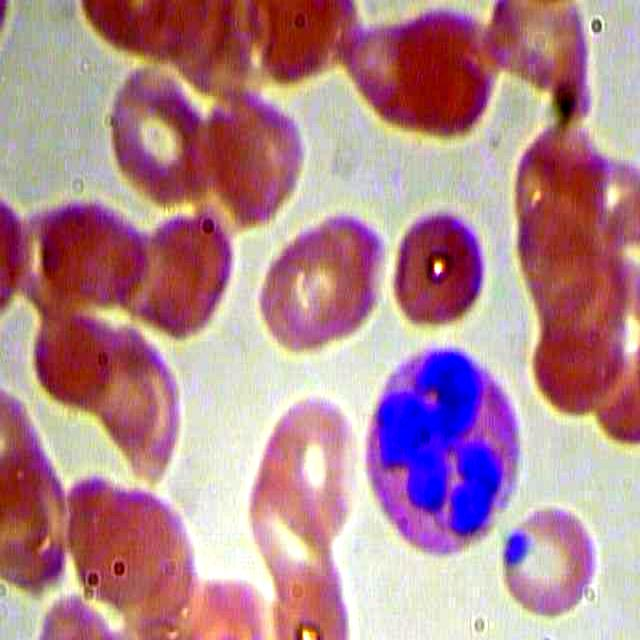RBC: (102, 64, 216, 212), (262, 381, 362, 548), (393, 4, 500, 139), (60, 473, 164, 611), (214, 82, 309, 226), (37, 197, 151, 316), (259, 222, 354, 358), (297, 207, 393, 340), (500, 497, 598, 620), (389, 210, 486, 330), (34, 306, 125, 410)
WBC: (363, 335, 519, 561)
